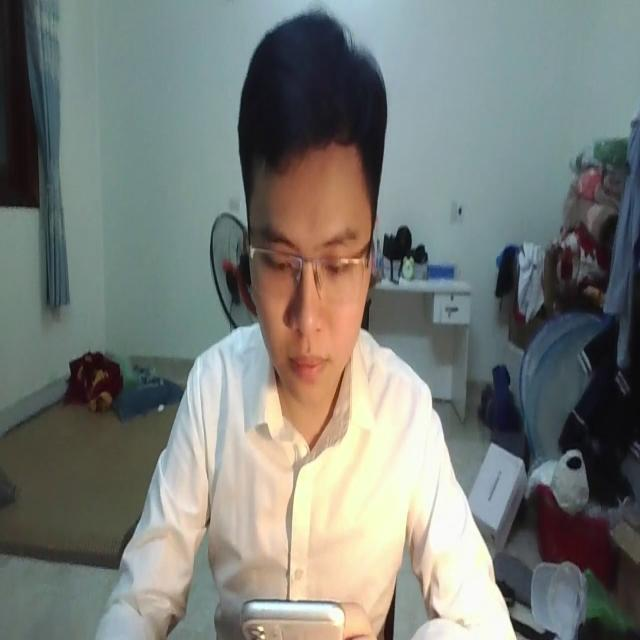phone: (239, 584, 344, 640)
student: (94, 8, 517, 640)
